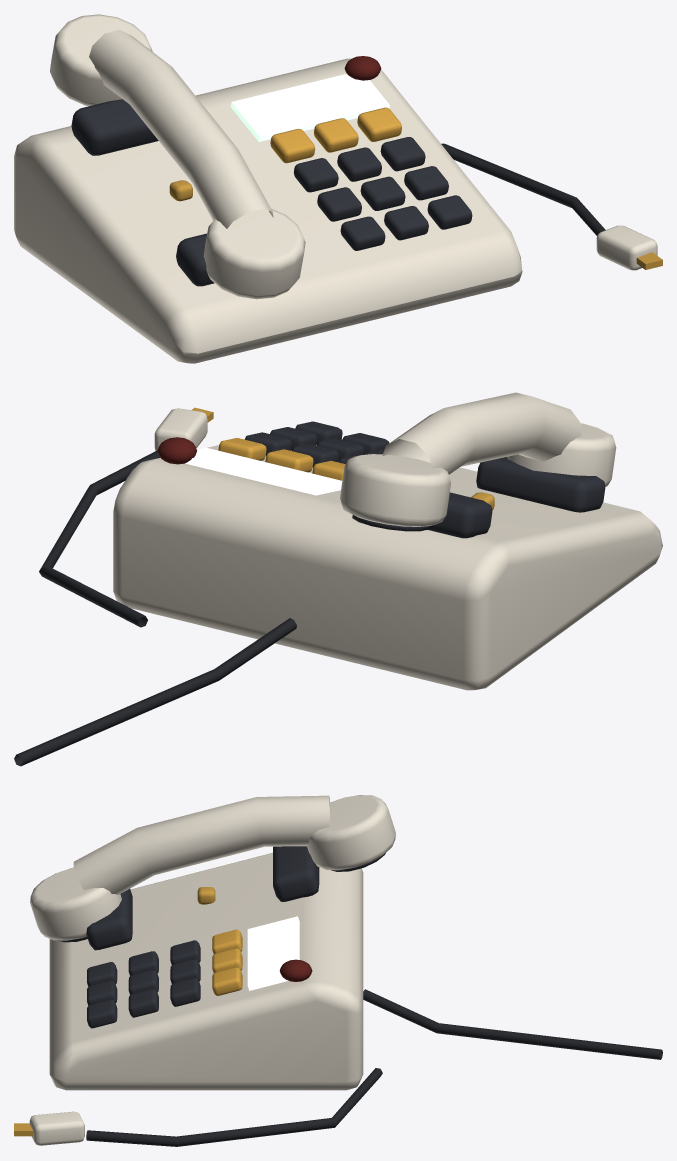
Rendered from RmPhone.fbx.
3 views of the same model, one above another, from view 1: azimuth 30°, elevation 25°; view 2: azimuth 150°, elevation 25°; view 3: azimuth 270°, elevation 25° (orthographic). The views are drawn at different scales.
Visible parts, largest first — view 1: RmPhoneBody, Handset, PhoneDisplay, Plug, RingLight; view 2: RmPhoneBody, Handset, Plug, PhoneDisplay, RingLight; view 3: RmPhoneBody, Handset, Plug, PhoneDisplay, RingLight.
Boxes of the visible parts, x1,y1,x2,y2 form: RmPhoneBody: [14, 58, 522, 363]; Handset: [50, 14, 305, 299]; PhoneDisplay: [230, 74, 389, 141]; Plug: [441, 143, 662, 270]; RingLight: [344, 56, 381, 80]; RmPhoneBody: [14, 421, 662, 766]; Handset: [340, 392, 616, 531]; Plug: [39, 407, 213, 627]; PhoneDisplay: [185, 447, 342, 495]; RingLight: [157, 437, 196, 464]; RmPhoneBody: [49, 846, 662, 1090]; Handset: [30, 795, 395, 942]; Plug: [14, 1068, 382, 1146]; PhoneDisplay: [247, 916, 299, 990]; RingLight: [279, 959, 312, 981].
Size of the model in its own units: 0.3236 by 0.1363 by 0.4349.
